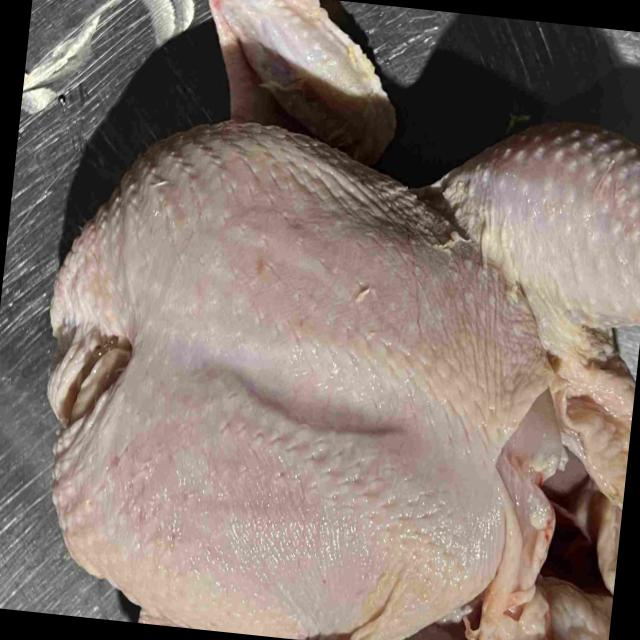breast: (53, 119, 555, 640)
leg: (439, 124, 640, 318)
wing: (205, 0, 397, 152)
